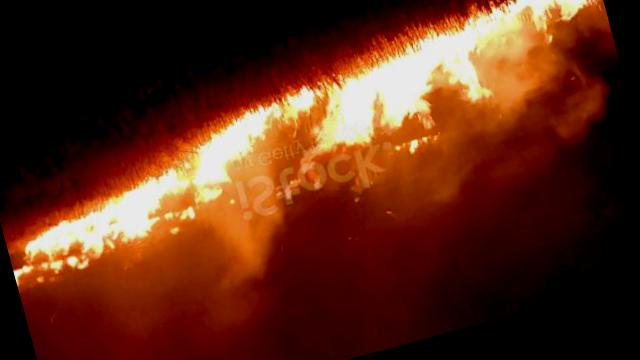fire: (0, 0, 636, 299)
